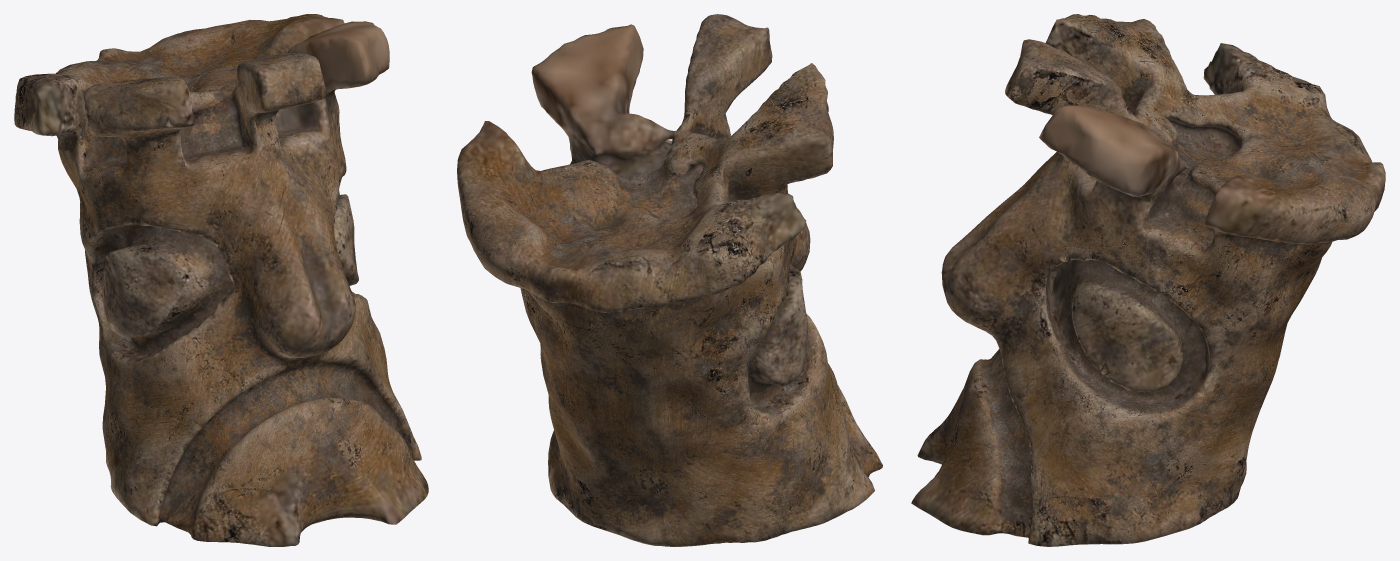
Rendered from Tiki.glb.
The picture shows the model from 3 angles, left to right: view 1: azimuth 30°, elevation 25°; view 2: azimuth 150°, elevation 25°; view 3: azimuth 270°, elevation 25°; orthographic projection. The views are drawn at different scales.
Visible parts, largest first — view 1: defaultobject%2E001; view 2: defaultobject%2E001; view 3: defaultobject%2E001.
Boxes of the visible parts, x1,y1,x2,y2 form: defaultobject%2E001: [14, 14, 428, 546]; defaultobject%2E001: [457, 14, 882, 546]; defaultobject%2E001: [911, 14, 1385, 546].
Size of the model in its own units: 2.06 by 2.71 by 2.71.
1 material, 1 textured.
